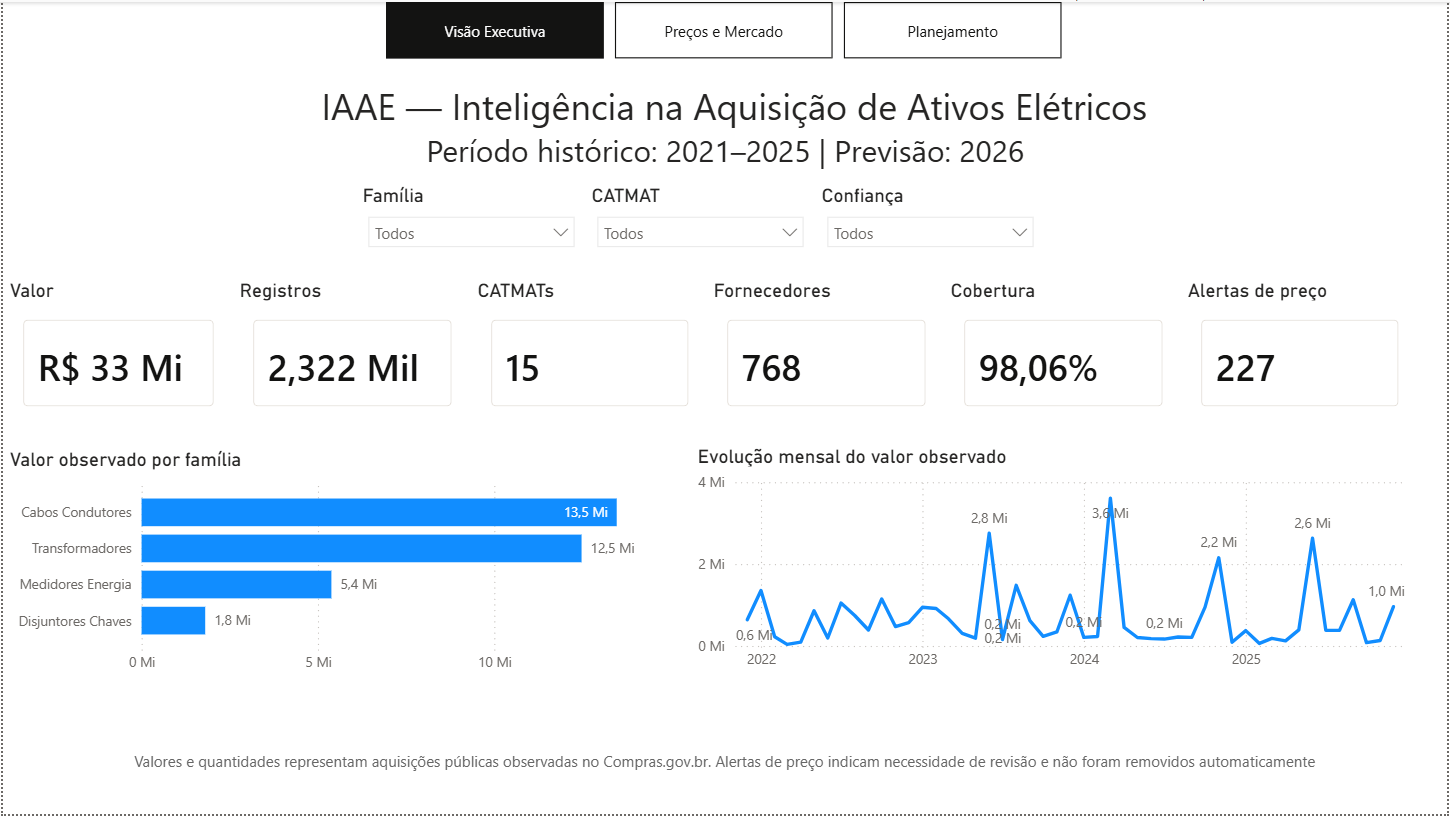

This screenshot's page, from the dashboard's own definition file:
{"tool":"powerbi","page":{"name":"Visão Executiva","canvas":[1280,720],"ordinal":0},"visuals":[{"type":"textbox","box":[9.3,64.8,1270.6,89.6],"z":0},{"type":"slicer","title":"Família","fields":{"Values":["DimMaterial.FamiliaMaterial"]},"box":[313.9,161.4,203.4,84.5],"z":1000},{"type":"slicer","title":"CATMAT","fields":{"Values":["DimMaterial.CodigoCATMAT"]},"box":[517.4,161.4,203.4,84.5],"z":2000},{"type":"slicer","title":"Confiança","fields":{"Values":["DimMaterial.ConfiancaPrevisao"]},"box":[720.8,161.4,203.4,84.5],"z":3000},{"type":"cardVisual","title":"Valor","fields":{"Data":["Medidas.Valor Total Observado"]},"box":[0.9,245.6,203.9,130.3],"z":4000},{"type":"cardVisual","title":"Registros","fields":{"Data":["Medidas.Observações de Compra"]},"box":[204.8,245.6,210.1,130.3],"z":5000},{"type":"cardVisual","title":"CATMATs","fields":{"Data":["Medidas.CATMATs Observados"]},"box":[415.9,245.6,209.3,130.3],"z":6000},{"type":"cardVisual","title":"Fornecedores","fields":{"Data":["Medidas.Fornecedores Ativos"]},"box":[625.1,245.6,210.1,130.3],"z":7000},{"type":"cardVisual","title":"Cobertura","fields":{"Data":["Medidas.Cobertura Unidade Comparável"]},"box":[835.3,245.6,210.1,130.3],"z":8000},{"type":"cardVisual","title":"Alertas de preço","fields":{"Data":["Medidas.Alertas de Preço"]},"box":[1045.4,245.6,209.3,130.3],"z":9000},{"type":"barChart","title":"Valor observado por família","fields":{"Y":["Medidas.Valor Total Observado"],"Category":["DimMaterial.FamiliaMaterial"]},"box":[0.9,395.7,610.3,208.2],"z":10000},{"type":"lineChart","title":"Evolução mensal do valor observado","fields":{"Category":["DimCalendario.InicioMes"],"Y":["Medidas.Valor Total Observado"]},"box":[611,393.1,640,208.2],"z":11000},{"type":"textbox","box":[0,659.5,1280,37],"z":12000},{"type":"pageNavigator","box":[339.8,0,600.4,50.1],"z":13000}]}

Visuals, with their boxes in screenshot pixels (x1, y1, x2, y2), scaled from the page's 1280x720 canvas onto the 1450x817 screenshot:
textbox: box(11, 74, 1449, 175)
"Família" slicer: box(356, 183, 586, 279)
"CATMAT" slicer: box(586, 183, 817, 279)
"Confiança" slicer: box(817, 183, 1047, 279)
"Valor" cardVisual: box(1, 279, 232, 427)
"Registros" cardVisual: box(232, 279, 470, 427)
"CATMATs" cardVisual: box(471, 279, 708, 427)
"Fornecedores" cardVisual: box(708, 279, 946, 427)
"Cobertura" cardVisual: box(946, 279, 1184, 427)
"Alertas de preço" cardVisual: box(1184, 279, 1421, 427)
"Valor observado por família" barChart: box(1, 449, 692, 685)
"Evolução mensal do valor observado" lineChart: box(692, 446, 1417, 682)
textbox: box(0, 748, 1449, 790)
pageNavigator: box(385, 0, 1065, 57)
